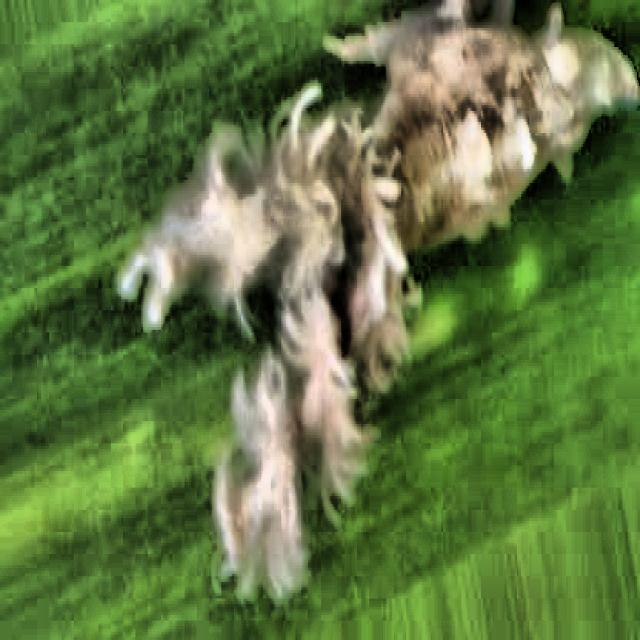Pyrilla-perpusilla: (142, 0, 603, 577)
